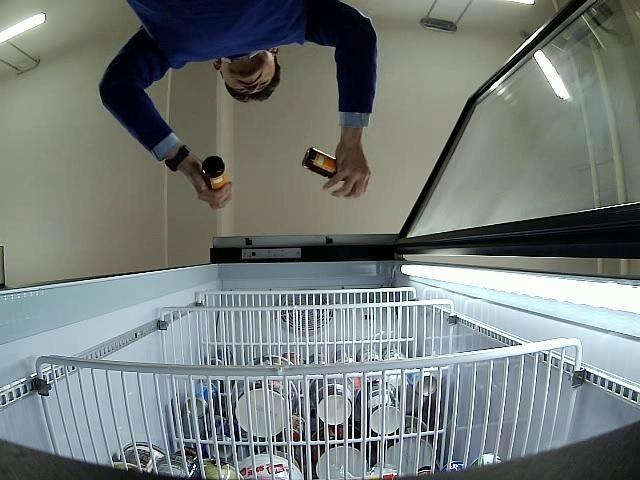17_vita500: (302, 146, 338, 178), (199, 155, 227, 193)
